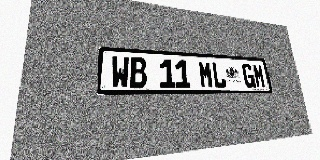1: (159, 59, 176, 88), (174, 59, 191, 88)
B: (130, 57, 147, 88)
G: (241, 63, 256, 88)
L: (211, 62, 226, 88)
M: (198, 61, 214, 88), (252, 64, 266, 88)
W: (111, 56, 129, 88)
